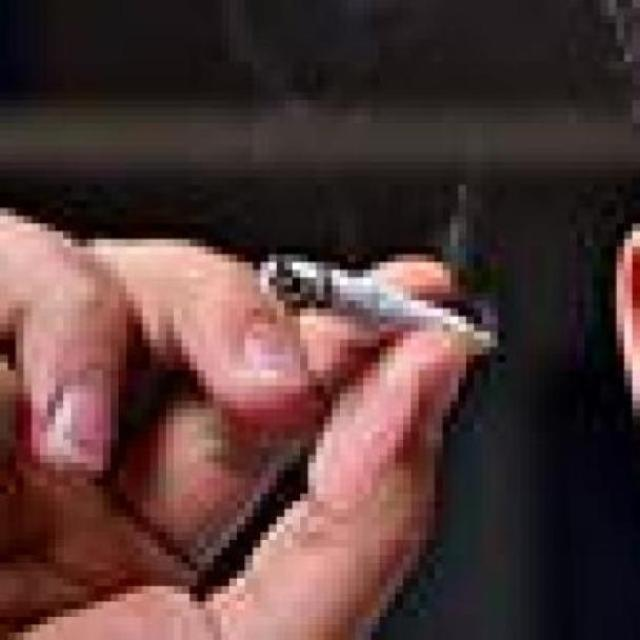rokok: (256, 250, 498, 362)
